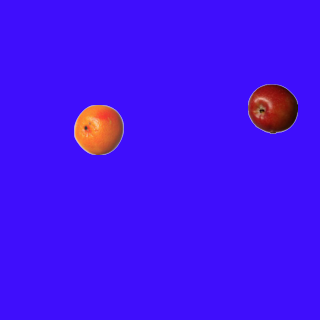Apple Braeburn: (247, 83, 297, 133)
Grapefruit Pink: (73, 104, 123, 154)
